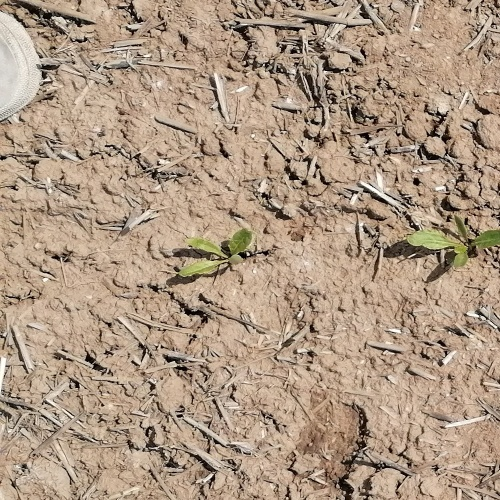beet: (407, 218, 500, 268), (177, 227, 254, 274)
